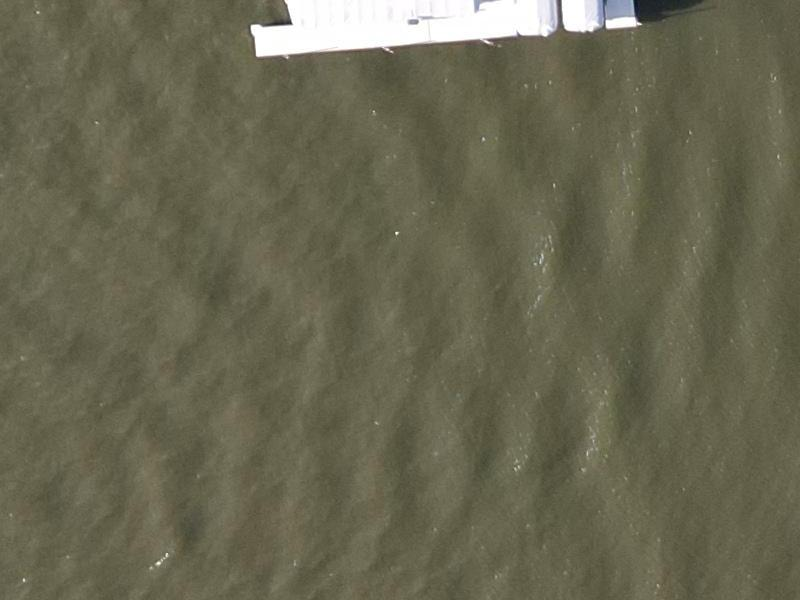boat: (239, 1, 641, 58)
lift: (285, 1, 482, 32), (510, 1, 557, 36), (556, 1, 604, 33)
